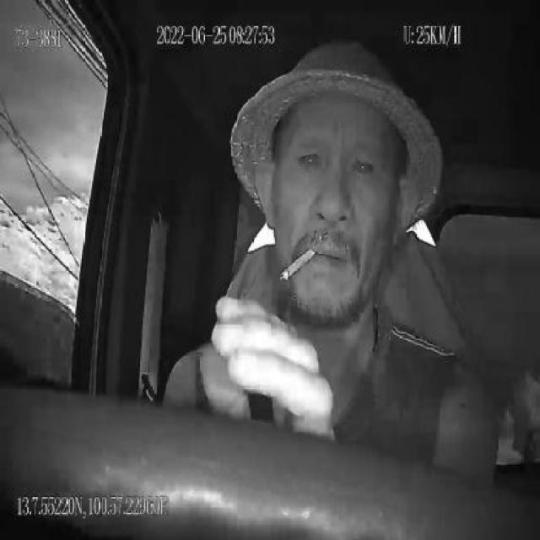smoking: (282, 244, 316, 282)
